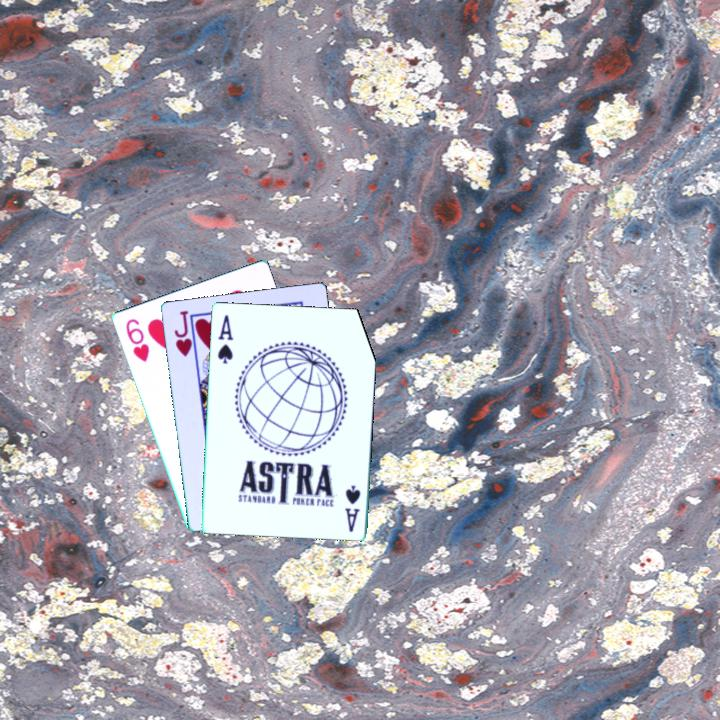6h: (122, 315, 152, 365)
As: (214, 311, 236, 365), (341, 481, 363, 535)
Jh: (170, 306, 195, 359)
